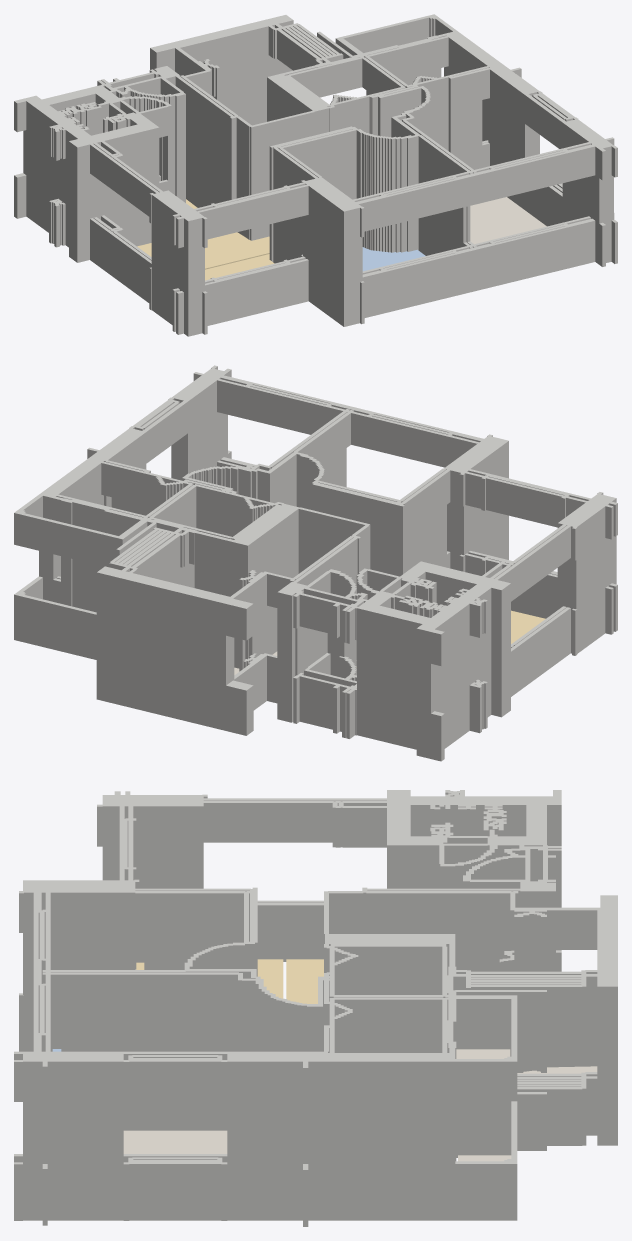
3 views of the same model, one above another, from view 1: azimuth 30°, elevation 25°; view 2: azimuth 150°, elevation 25°; view 3: azimuth 270°, elevation 25° (orthographic). The views are drawn at different scales.
Visible parts, largest first — view 1: walls, room:other:8, room:living:2, room:bedroom:3, room:living:1; view 2: walls, room:living:1; view 3: walls, room:other:8, room:living:2, room:other:4, room:living:1.
Part boxes in pixels (x1=…): walls: x1=14, y1=14, x2=617, y2=336; room:other:8: x1=470, y1=197, x2=546, y2=244; room:living:2: x1=137, y1=199, x2=269, y2=269; room:bedroom:3: x1=362, y1=247, x2=425, y2=271; room:living:1: x1=205, y1=254, x2=274, y2=280; walls: x1=14, y1=365, x2=617, y2=761; room:living:1: x1=511, y1=610, x2=545, y2=643; walls: x1=14, y1=790, x2=617, y2=1226; room:other:8: x1=123, y1=1130, x2=227, y2=1153; room:living:2: x1=286, y1=959, x2=323, y2=1003; room:other:4: x1=456, y1=1049, x2=597, y2=1073; room:living:1: x1=136, y1=959, x2=283, y2=998.
Size of the model in its own units: 10.49 by 2.8 by 9.64.
